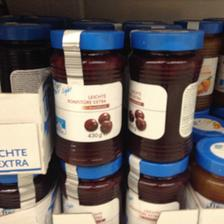Marmelade: (49, 27, 123, 163), (128, 26, 202, 158), (125, 153, 192, 221), (58, 158, 124, 222)
